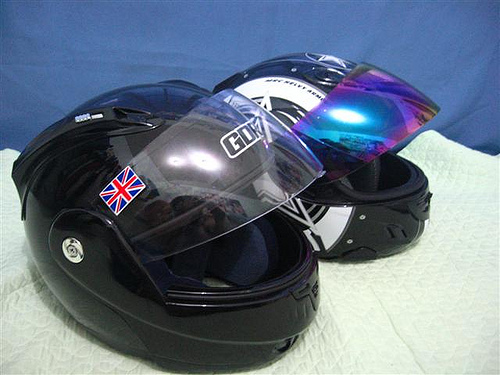helmet: (12, 106, 325, 332), (213, 59, 439, 253)
